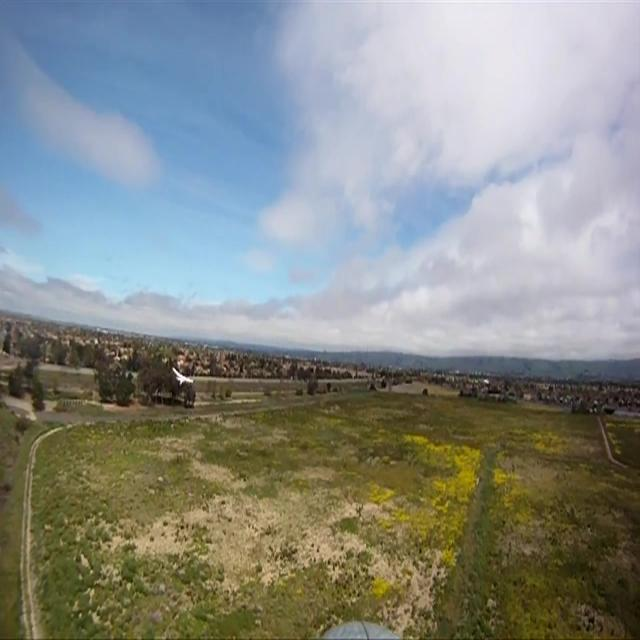iha: (171, 365, 195, 387)
